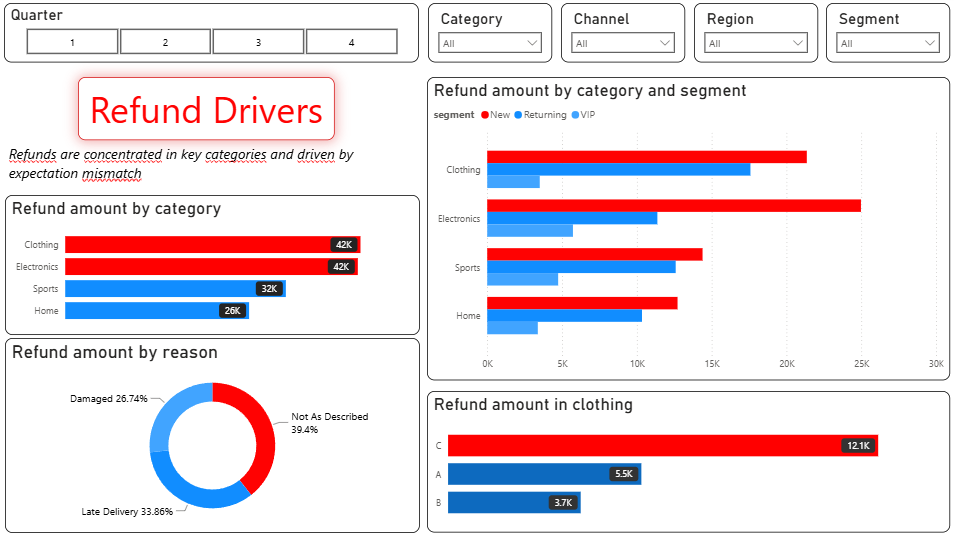

This screenshot's page, from the dashboard's own definition file:
{"tool":"powerbi","page":{"name":"Refund Analysis","canvas":[1280,720],"ordinal":3},"visuals":[{"type":"slicer","fields":{"Values":["fact_order_items.channel"]},"box":[750.1,11.1,165,79.4],"z":0},{"type":"slicer","fields":{"Values":["fact_order_items.region"]},"box":[926.6,11.1,165,79.4],"z":1000},{"type":"slicer","fields":{"Values":["fact_order_items.segment"]},"box":[1103.2,11.1,165,79.4],"z":2000},{"type":"slicer","title":"Quarter","fields":{"Values":["dim_dates.quarter"]},"box":[11.1,11.1,550.8,79.4],"z":3000},{"type":"slicer","fields":{"Values":["fact_order_items.category"]},"box":[573.5,11.1,165.1,79.4],"z":4000},{"type":"donutChart","title":"Refund amount by reason","fields":{"Y":["fact_order_items.Refund amount"],"Category":["fact_order_items.refund_reason"]},"box":[11.8,455.2,551,258.7],"z":5000},{"type":"clusteredBarChart","fields":{"Y":["fact_order_items.Refund amount"],"Category":["fact_order_items.category"]},"box":[11.8,265.4,551,186.5],"z":6000},{"type":"clusteredBarChart","fields":{"Category":["fact_order_items.category"],"Y":["fact_order_items.Refund amount"],"Series":["fact_order_items.segment"]},"box":[572.8,109.2,695.4,403.1],"z":7000},{"type":"clusteredBarChart","title":"Refund amount in clothing","fields":{"Y":["fact_order_items.Refund amount"],"Category":["fact_order_items.subcategory"]},"box":[572.8,525.8,695.4,188.1],"z":8000},{"type":"textbox","box":[11.8,193.2,551,72.2],"z":9000},{"type":"textbox","box":[109.2,109.2,341,84],"z":10000}]}

Visuals, with their boxes in screenshot pixels (x1, y1, x2, y2), scaled from the page's 1280x720 canvas onto the 954x533 screenshot:
slicer - fact_order_items.channel: 559:8:682:67
slicer - fact_order_items.region: 691:8:814:67
slicer - fact_order_items.segment: 822:8:945:67
"Quarter" slicer: 8:8:419:67
slicer - fact_order_items.category: 427:8:550:67
"Refund amount by reason" donutChart: 9:337:419:528
clusteredBarChart - fact_order_items.Refund amount x fact_order_items.category: 9:196:419:335
clusteredBarChart - fact_order_items.category x fact_order_items.Refund amount: 427:81:945:379
"Refund amount in clothing" clusteredBarChart: 427:389:945:528
textbox: 9:143:419:196
textbox: 81:81:336:143
